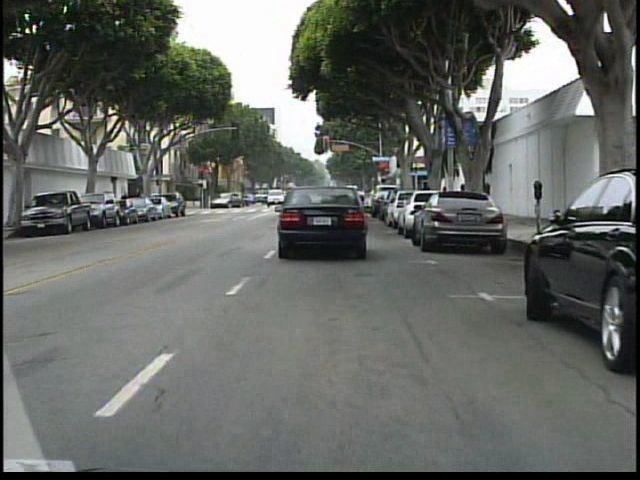person: (118, 190, 132, 218)
